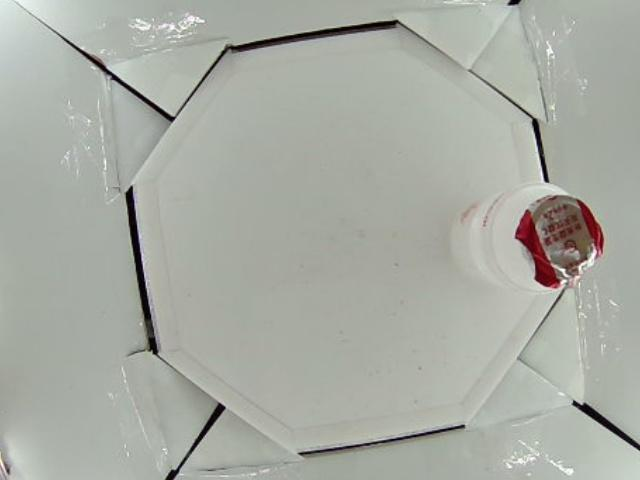Bottle: (449, 182, 606, 291)
